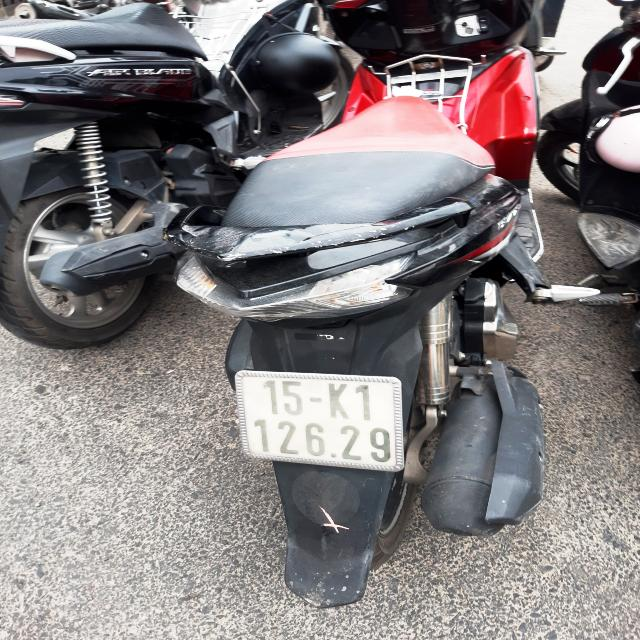license_plate: (233, 374, 406, 473)
